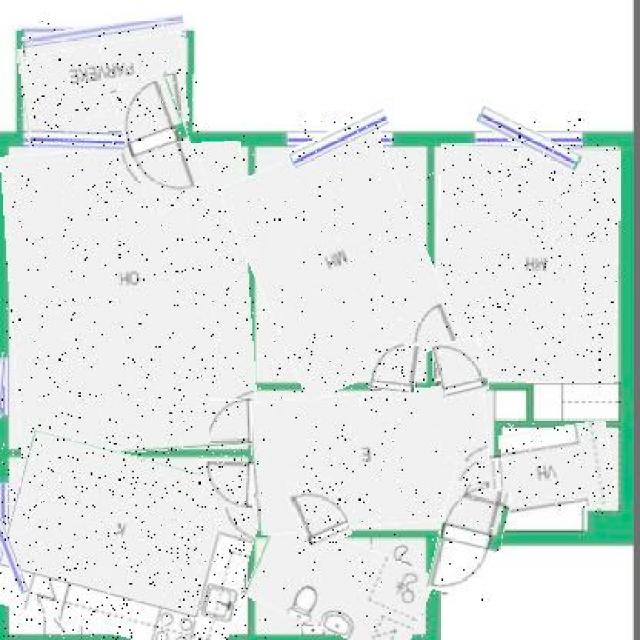door: (120, 74, 200, 211), (432, 483, 506, 600), (294, 480, 348, 548), (435, 338, 488, 396), (201, 460, 254, 508), (372, 342, 422, 392), (457, 460, 508, 505), (210, 399, 252, 443)
window: (22, 22, 185, 52), (475, 118, 583, 162), (288, 117, 389, 157), (29, 131, 126, 152), (0, 482, 18, 595), (0, 352, 3, 418)
zone: (5, 143, 252, 455), (239, 135, 443, 391), (0, 443, 257, 640), (436, 145, 618, 383), (252, 389, 492, 531), (247, 524, 429, 640), (20, 32, 189, 137), (502, 423, 616, 515)
